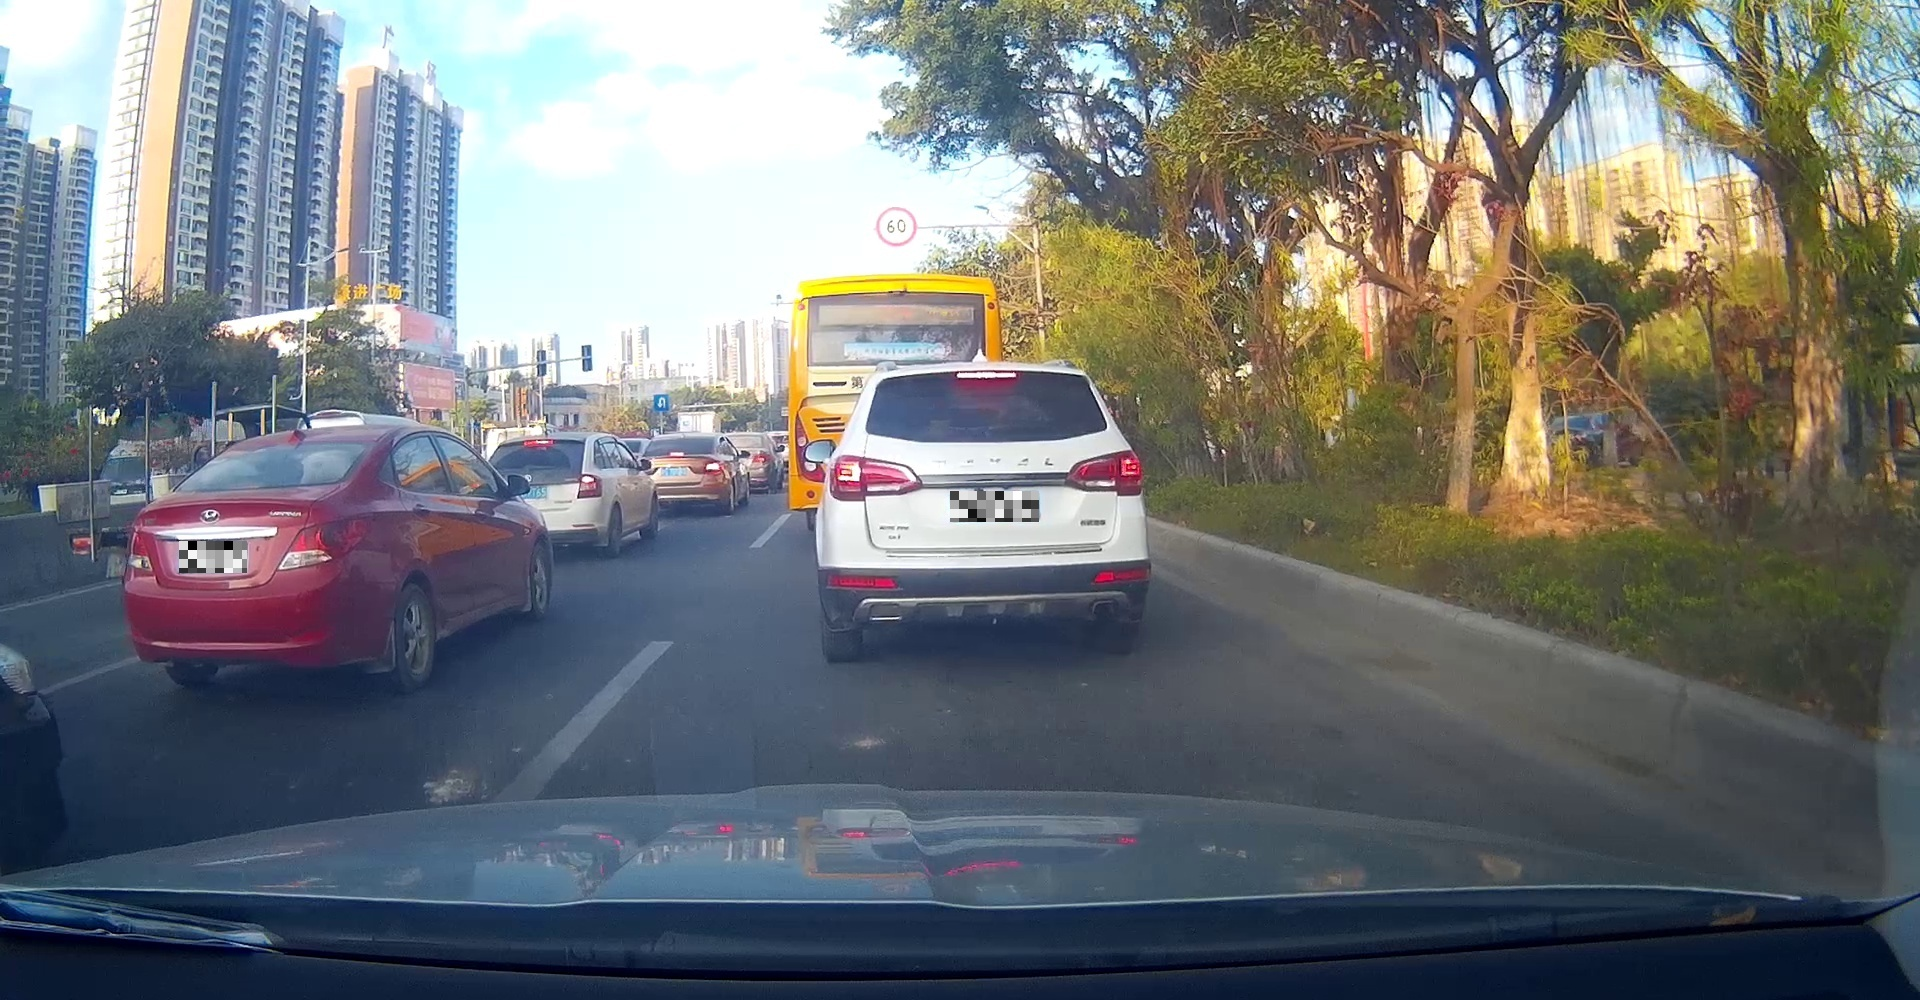L_light: (828, 454, 923, 501), (127, 534, 152, 574)
R_light: (277, 516, 375, 571), (1064, 451, 1143, 496)
T_light: (957, 371, 1018, 379), (290, 443, 312, 451)
day-brake: (814, 362, 1152, 662)
day-no: (123, 425, 383, 692)
plate_1: (179, 541, 248, 574)
plate_2: (950, 491, 1039, 522)
